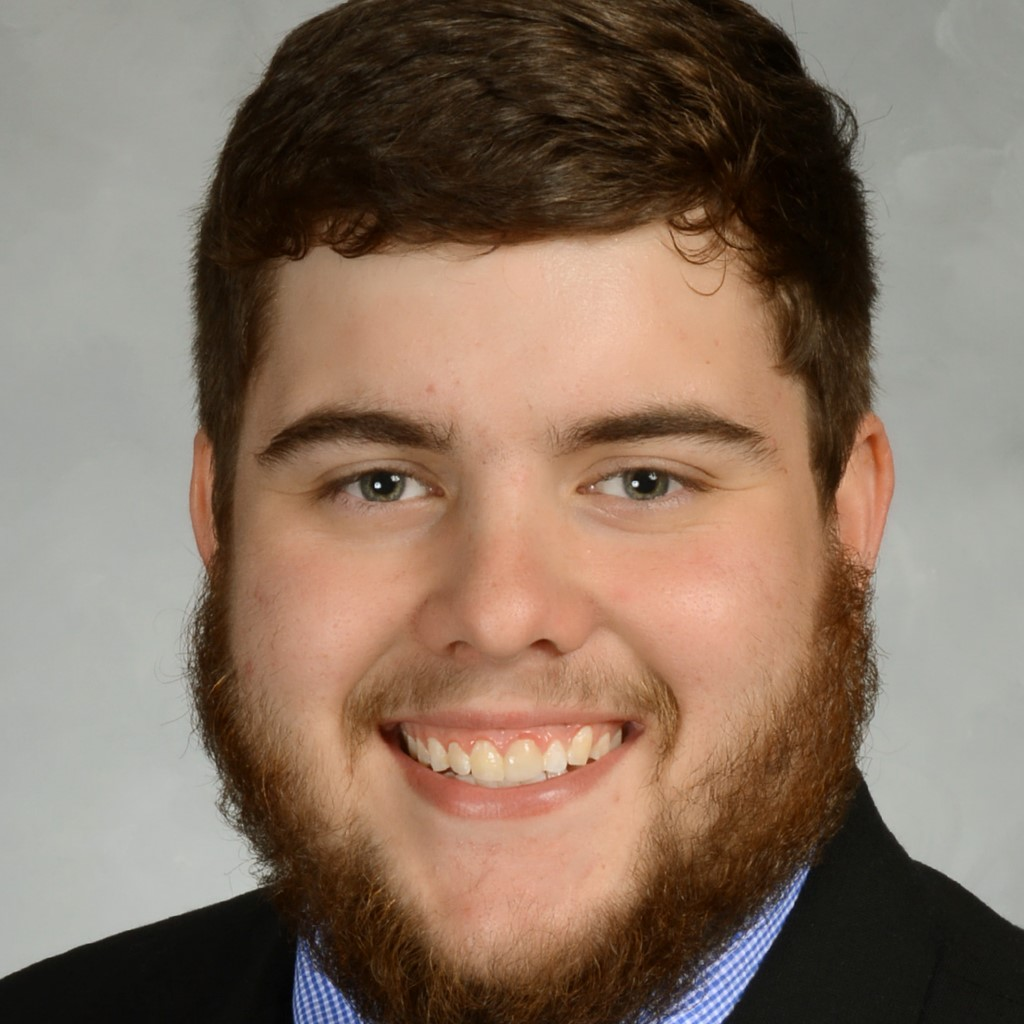sin_mascara: (197, 184, 802, 988)
